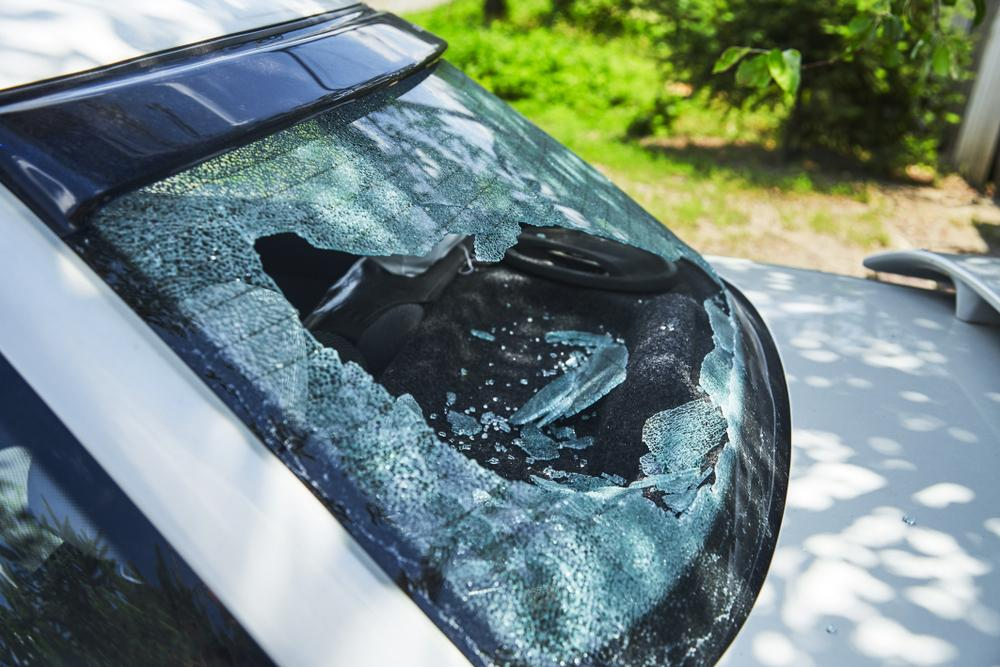glass shatter: (73, 59, 777, 667)
